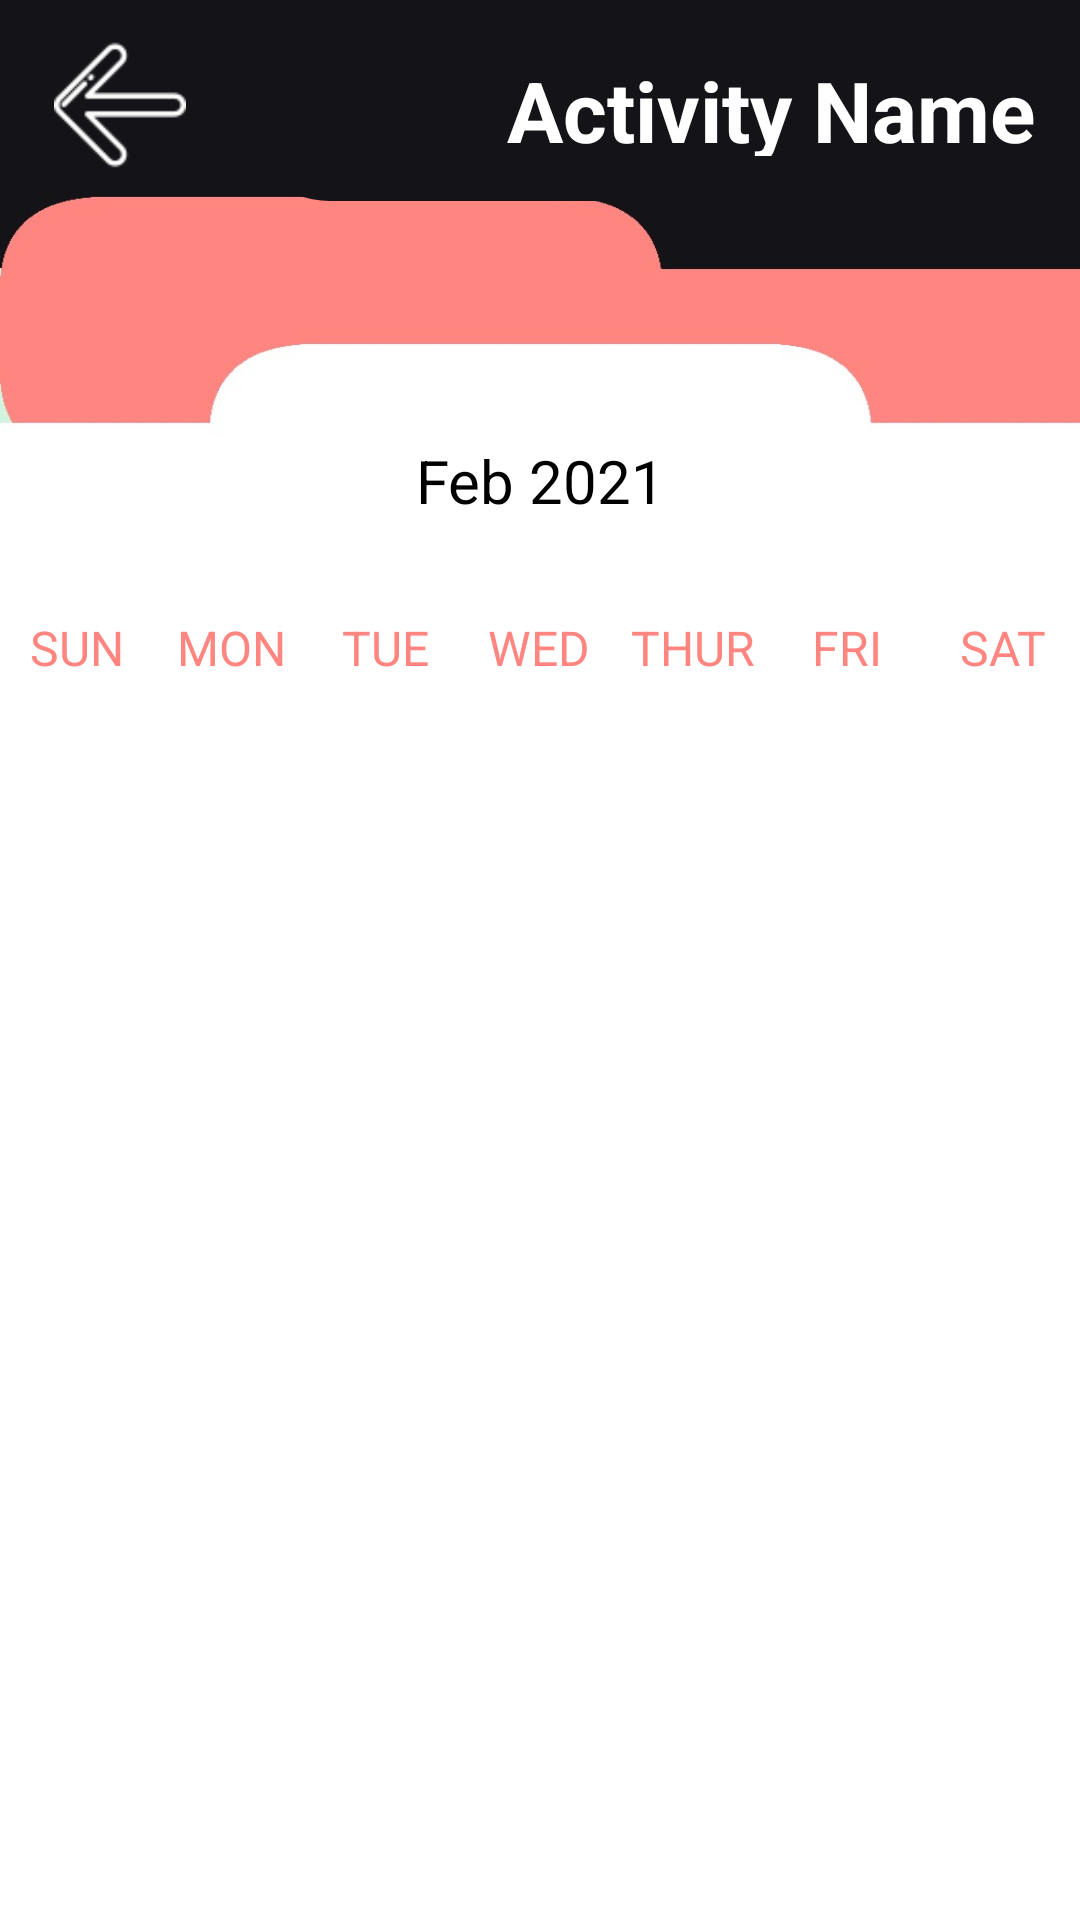

Where to tap for icons on this 1080*1920 app screen, as [x,y]:
back: [120,105]
